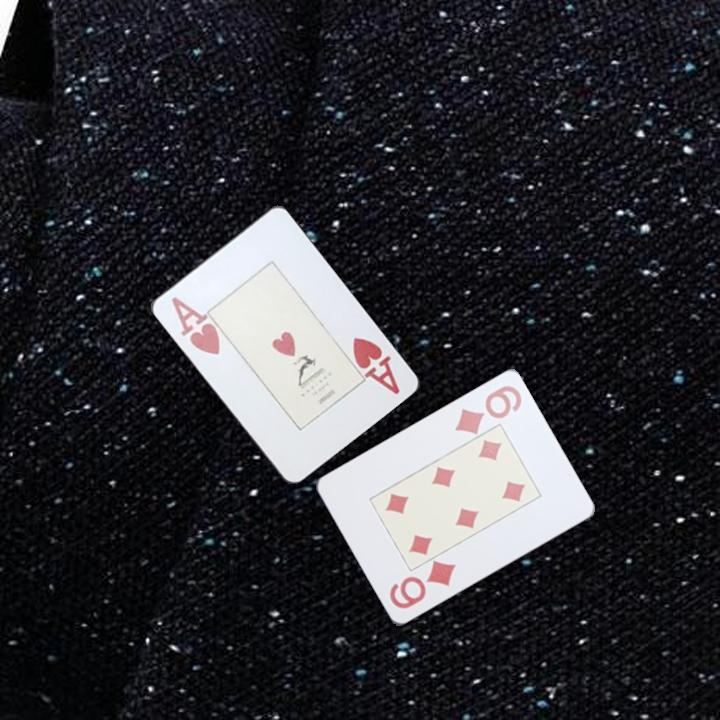6d: (385, 557, 459, 612), (451, 382, 525, 437)
Ah: (168, 293, 224, 360), (348, 333, 402, 398)
